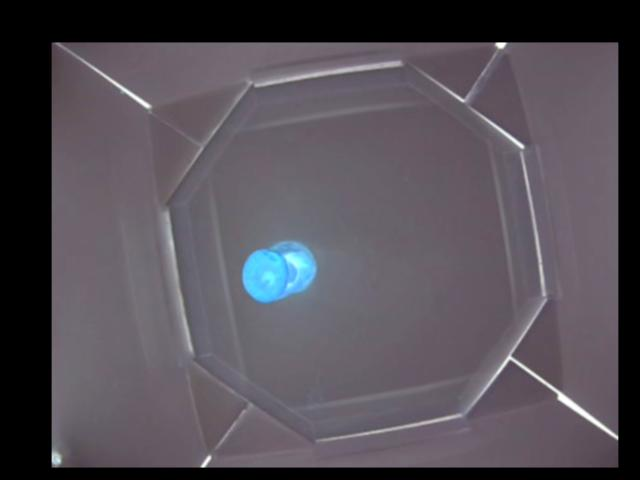Carrot: (242, 238, 315, 301)
